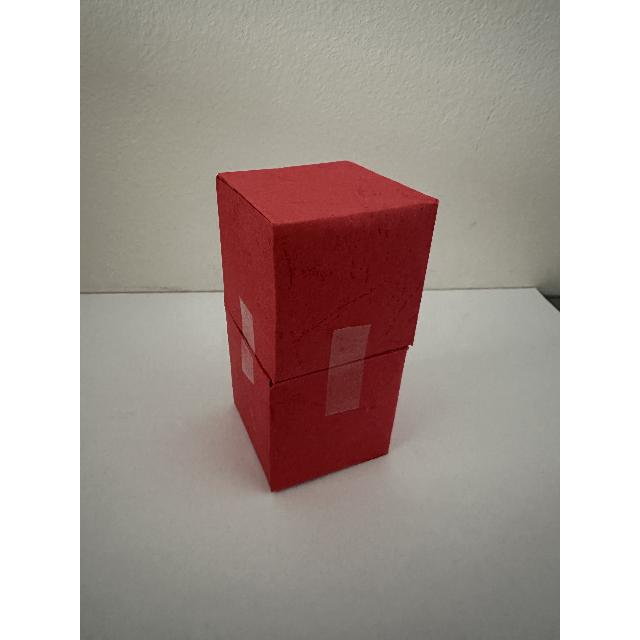red_cube: (184, 137, 450, 493)
